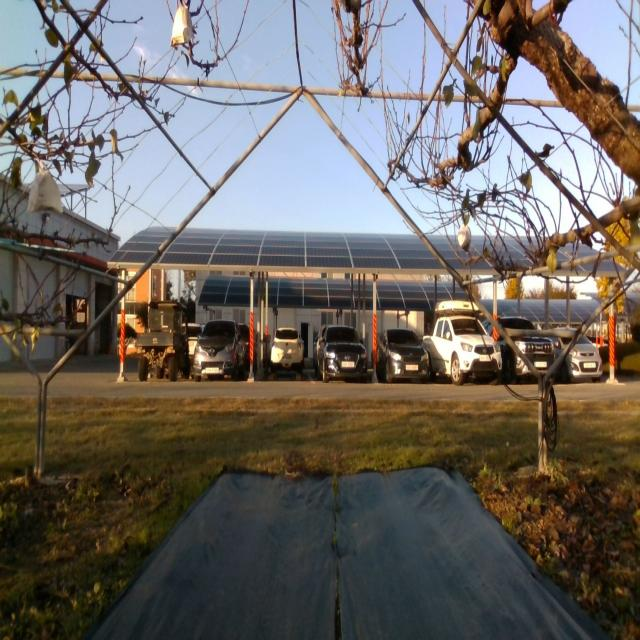pearbags: (26, 172, 63, 213), (170, 5, 193, 47), (457, 223, 472, 253)
